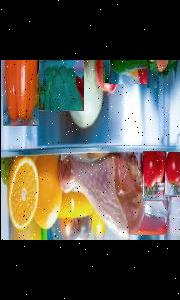Brocoli: (38, 60, 83, 110)
Pepino: (102, 60, 148, 83), (108, 60, 147, 84)
Pimiento: (2, 60, 38, 125)
Tomate: (142, 151, 165, 200), (164, 152, 179, 196)
Zanahoria: (146, 60, 156, 88)
